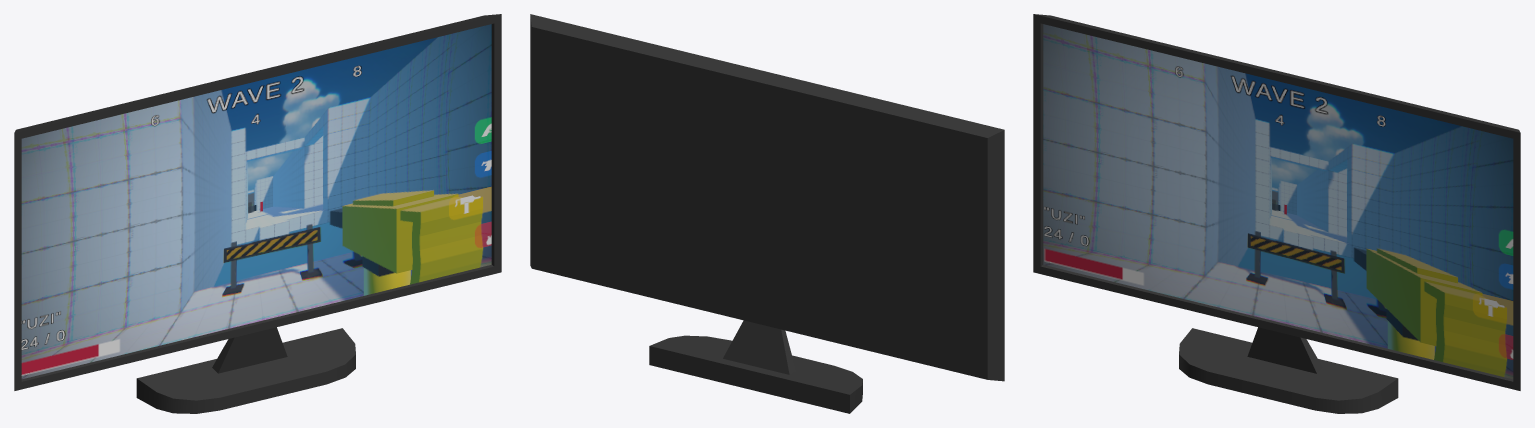
File: Monitor_3.obj
3 views of the same model, side by side, from view 1: azimuth 30°, elevation 25°; view 2: azimuth 150°, elevation 25°; view 3: azimuth 330°, elevation 25° (orthographic). The views are drawn at different scales.
Parts seen in each view (by area): view 1: Monitor_3; view 2: Monitor_3; view 3: Monitor_3.
Part boxes in pixels (x1=…): Monitor_3: x1=14, y1=14, x2=501, y2=413; Monitor_3: x1=530, y1=14, x2=1004, y2=413; Monitor_3: x1=1033, y1=14, x2=1520, y2=413.
Size of the model in its own units: 1.05 by 0.6433 by 0.1255.
